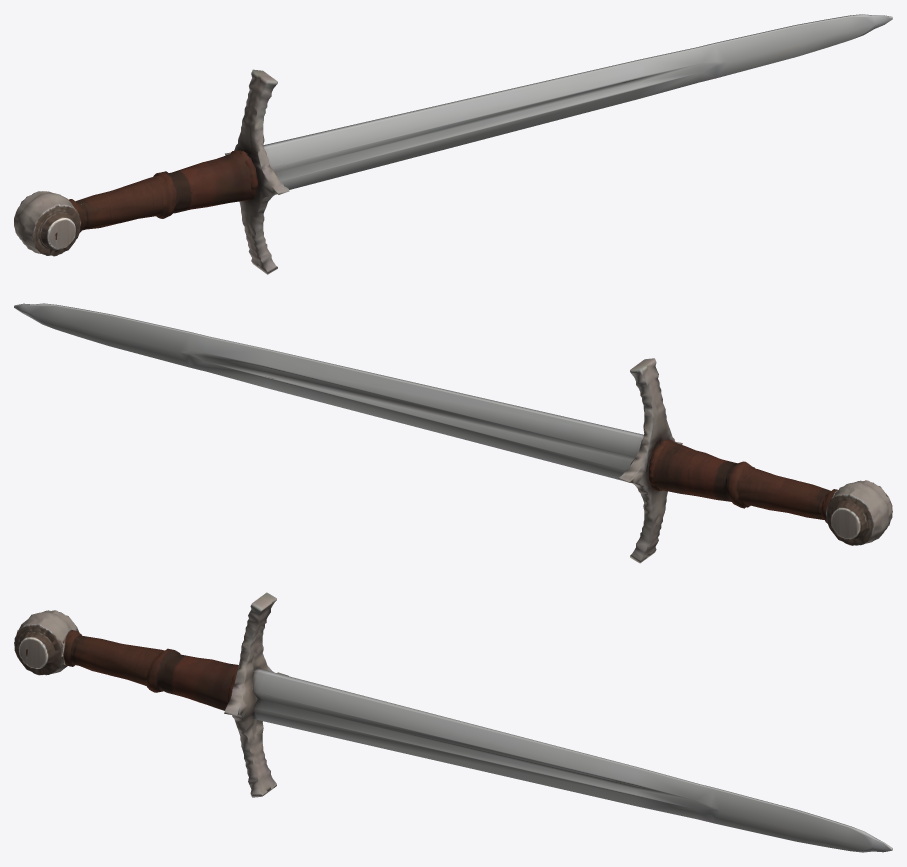
File: 019def56-2c03-7612-b97e-f6b2b7a3ee9a.glb
3 renders of one model, top to bottom at view 1: azimuth 30°, elevation 25°; view 2: azimuth 150°, elevation 25°; view 3: azimuth 330°, elevation 25°, orthographic.
Visible parts, largest first — view 1: tripo_node_00a926bd-1982-4d9e-be95-888a2347f49e; view 2: tripo_node_00a926bd-1982-4d9e-be95-888a2347f49e; view 3: tripo_node_00a926bd-1982-4d9e-be95-888a2347f49e.
Boxes of the visible parts, x1=… form: tripo_node_00a926bd-1982-4d9e-be95-888a2347f49e: x1=14, y1=14, x2=892, y2=274; tripo_node_00a926bd-1982-4d9e-be95-888a2347f49e: x1=14, y1=303, x2=892, y2=563; tripo_node_00a926bd-1982-4d9e-be95-888a2347f49e: x1=14, y1=592, x2=892, y2=852.
Size of the model in its own units: 0.998 by 0.2129 by 0.1074.
1 material, 1 textured.
